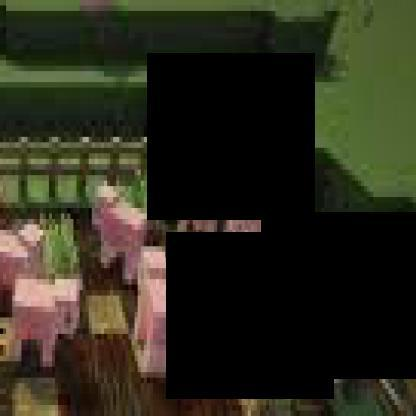minecraft-pigs: (121, 242, 204, 383), (284, 280, 370, 411), (6, 265, 96, 375), (262, 212, 328, 354), (86, 164, 156, 280), (0, 208, 55, 312), (0, 153, 3, 274)
